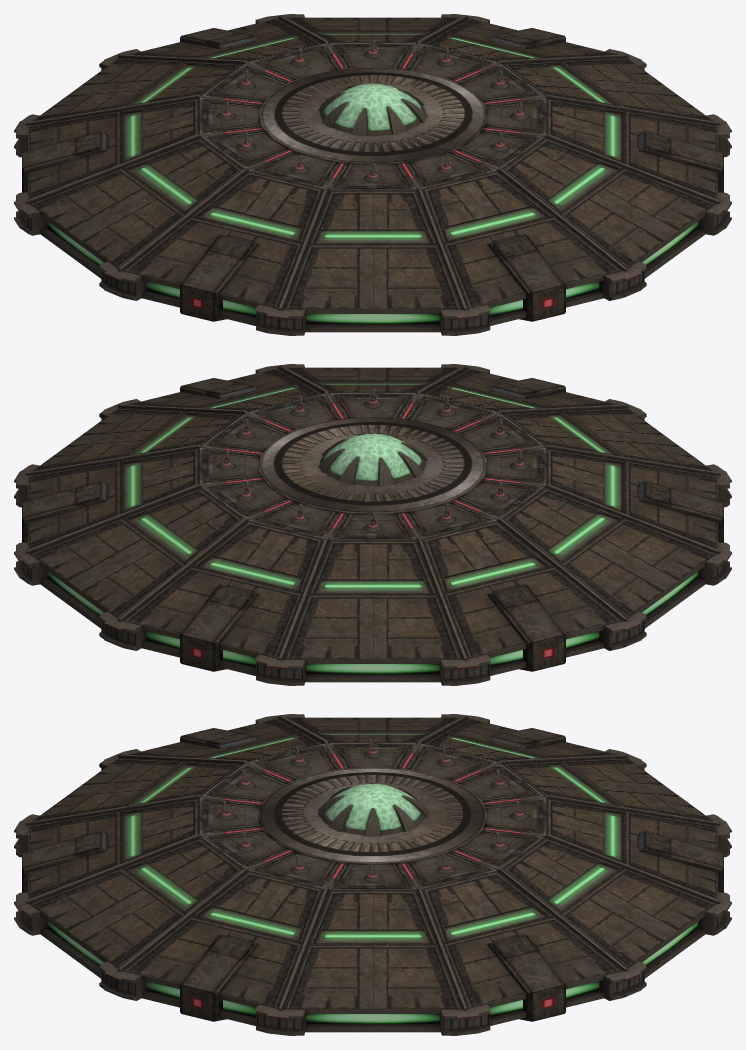
The model's file is saucerer.glb.
3 renders of one model, top to bottom at view 1: azimuth 30°, elevation 25°; view 2: azimuth 150°, elevation 25°; view 3: azimuth 270°, elevation 25°, orthographic.
Parts seen in each view (by area): view 1: detail0, glowstrip01; view 2: detail0, glowstrip01; view 3: detail0, glowstrip01.
Part boxes in pixels (left/top/right/bottom): detail0: left=14, top=14, right=731, bottom=335; glowstrip01: left=47, top=222, right=698, bottom=324; detail0: left=14, top=364, right=731, bottom=685; glowstrip01: left=47, top=572, right=698, bottom=674; detail0: left=14, top=714, right=731, bottom=1035; glowstrip01: left=47, top=922, right=698, bottom=1024.
Bounding box in the file's own units: 68.08 × 24.26 × 68.08.
3 materials, 3 textured.
